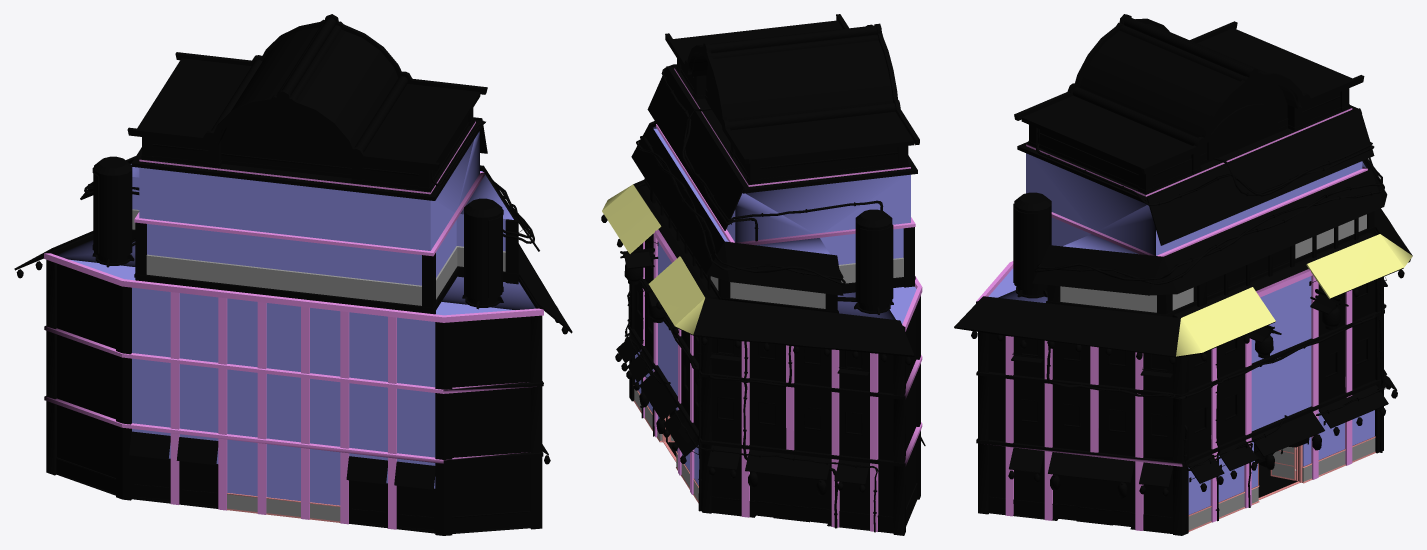
Rendered from SM_ENV_LKNVLD_Shop_Structure_Lod3.gltf.
3 renders of one model, left to right at view 1: azimuth 30°, elevation 25°; view 2: azimuth 150°, elevation 25°; view 3: azimuth 270°, elevation 25°, orthographic. The views are drawn at different scales.
Parts seen in each view (by area): view 1: SM_ENV_LKNVLD_Shop_Structure_Lod3; view 2: SM_ENV_LKNVLD_Shop_Structure_Lod3; view 3: SM_ENV_LKNVLD_Shop_Structure_Lod3.
Boxes of the visible parts, x1,y1,x2,y2 form: SM_ENV_LKNVLD_Shop_Structure_Lod3: [14, 14, 572, 535]; SM_ENV_LKNVLD_Shop_Structure_Lod3: [601, 14, 925, 535]; SM_ENV_LKNVLD_Shop_Structure_Lod3: [954, 14, 1412, 535].
Bounding box in the file's own units: 35.83 × 35.54 × 35.83.
